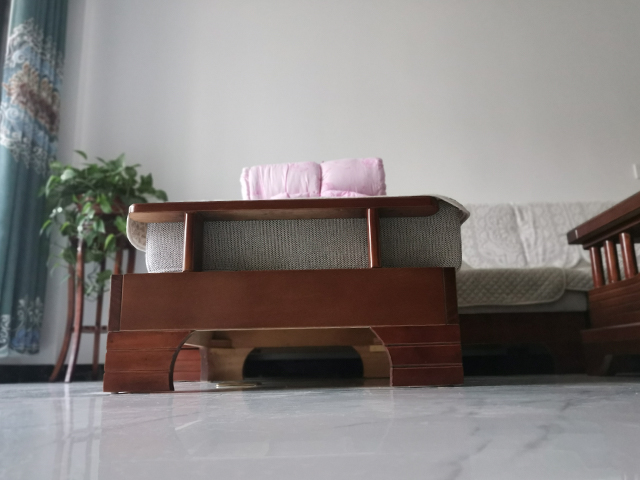curtain: (1, 1, 69, 362)
sofa: (102, 192, 594, 396)
table: (565, 190, 640, 378)
